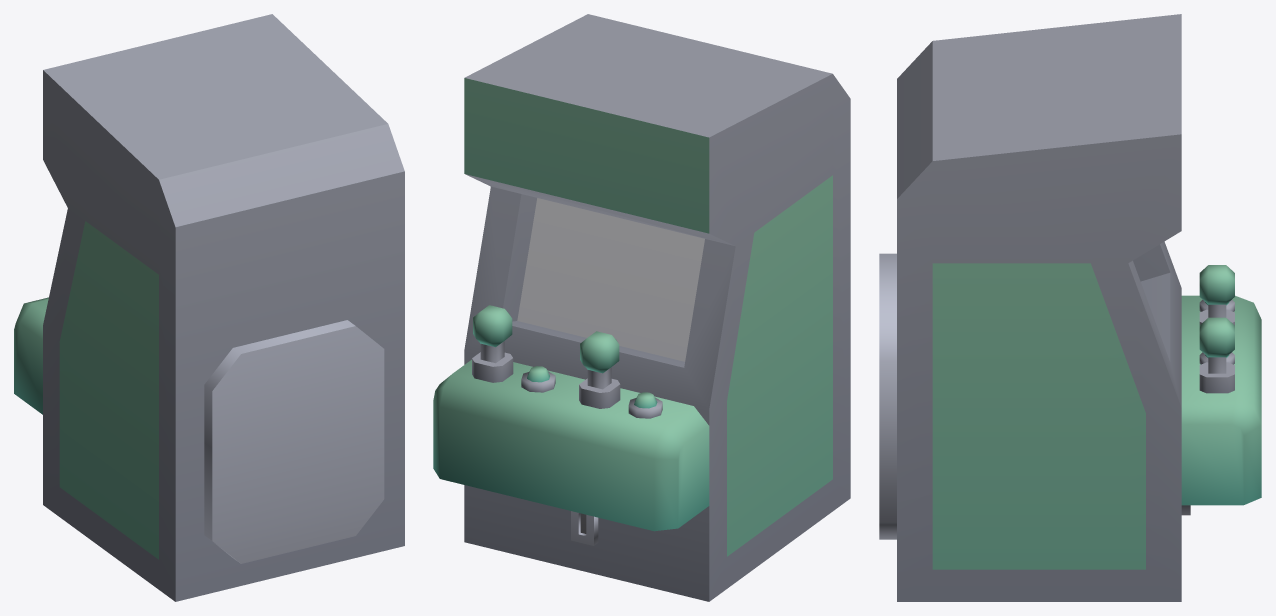
File: furn_arcade.glb
3 renders of one model, left to right at view 1: azimuth 30°, elevation 25°; view 2: azimuth 150°, elevation 25°; view 3: azimuth 270°, elevation 25°, orthographic. The views are drawn at different scales.
Size of the model in its own units: 1 by 1.81 by 1.34.
